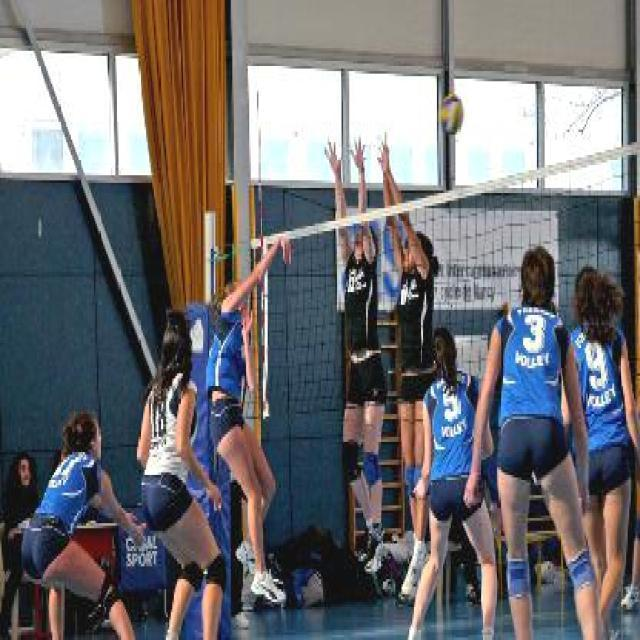volleyball: (440, 95, 464, 133)
